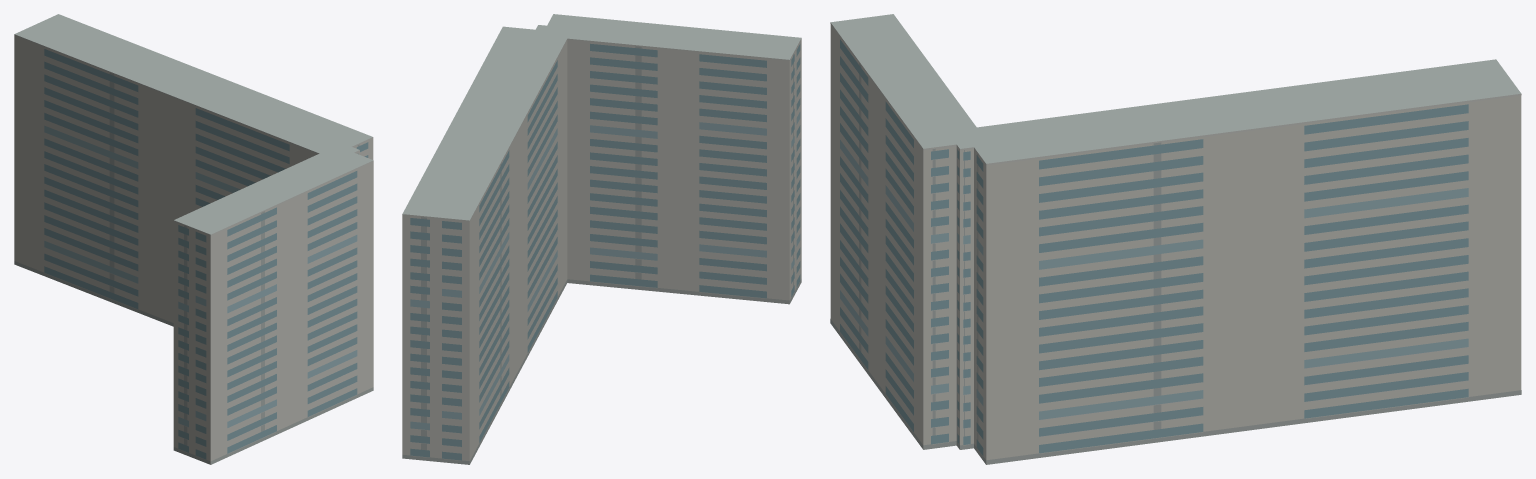
The model's file is residential-7093d745-6b99-4ec6-9f23-501777d46c54.glb.
3 views of the same model, side by side, from view 1: azimuth 30°, elevation 25°; view 2: azimuth 150°, elevation 25°; view 3: azimuth 270°, elevation 25° (orthographic). The views are drawn at different scales.
Visible parts, largest first — view 1: residential-7093d745-6b99-4ec6-9f23-501777d46c54.tmp; view 2: residential-7093d745-6b99-4ec6-9f23-501777d46c54.tmp; view 3: residential-7093d745-6b99-4ec6-9f23-501777d46c54.tmp.
Boxes of the visible parts, x1,y1,x2,y2 form: residential-7093d745-6b99-4ec6-9f23-501777d46c54.tmp: [14, 14, 373, 464]; residential-7093d745-6b99-4ec6-9f23-501777d46c54.tmp: [402, 14, 801, 464]; residential-7093d745-6b99-4ec6-9f23-501777d46c54.tmp: [830, 14, 1521, 464].
Bounding box in the file's own units: 52.31 × 49 × 102.
